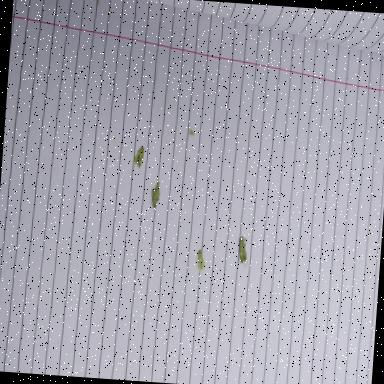pbw: (236, 235, 250, 268), (132, 145, 145, 169), (194, 248, 206, 272), (154, 180, 161, 204), (150, 188, 158, 208), (189, 129, 194, 136)
